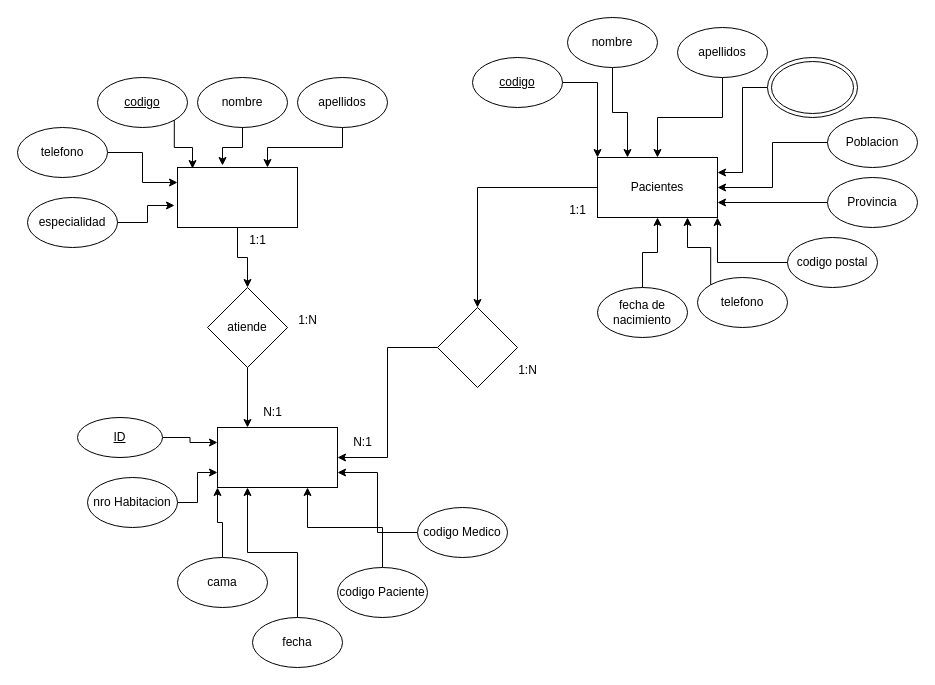
The diagram is 935 pixels wide and 685 high, and some of its shapes have lost their labels. The shapes that lost their labels are listed below. From the top down, each one's centre as x and y in pixels, then its label:
At pixel 812 87: "direccion".
At pixel 237 197: "Medicos".
At pixel 477 347: "realiza".
At pixel 277 457: "Ingresos".
